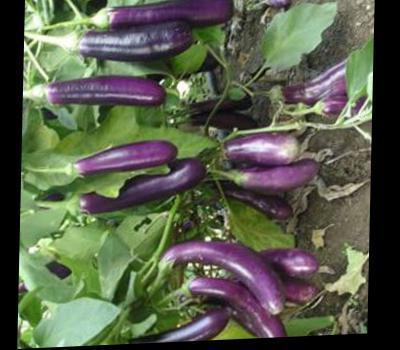eggplant: (36, 0, 240, 121), (141, 221, 319, 344), (57, 130, 209, 226), (208, 102, 320, 204)
